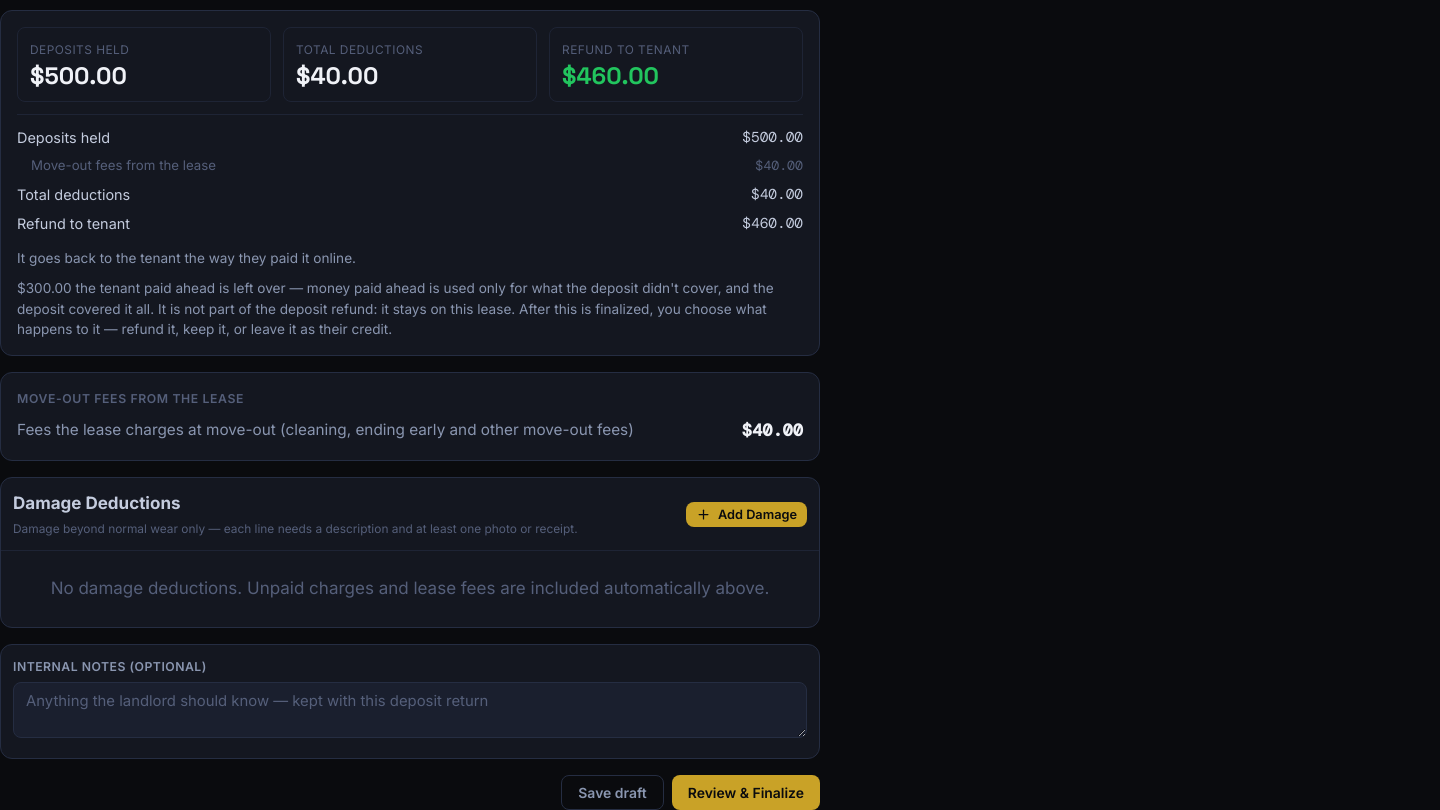
Test case: Deposit return: the server's figures, never the page's own sum › Cancel backs out with nothing sent
(page scrolled)
Click the button "Review & Finalize": click(746, 793) x1=672 y1=775 x2=820 y2=809
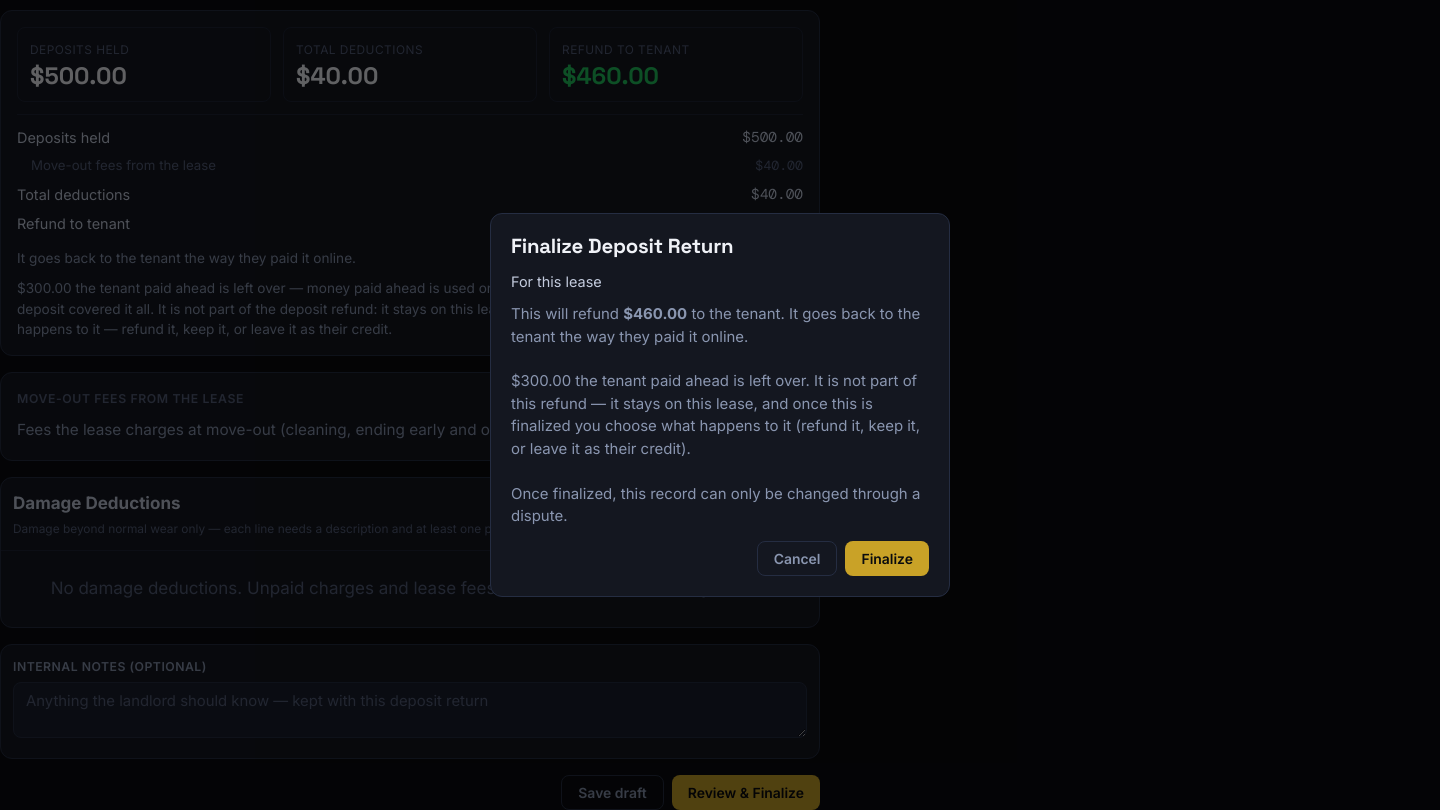
Click the button "Cancel": click(797, 559) x1=757 y1=541 x2=837 y2=576
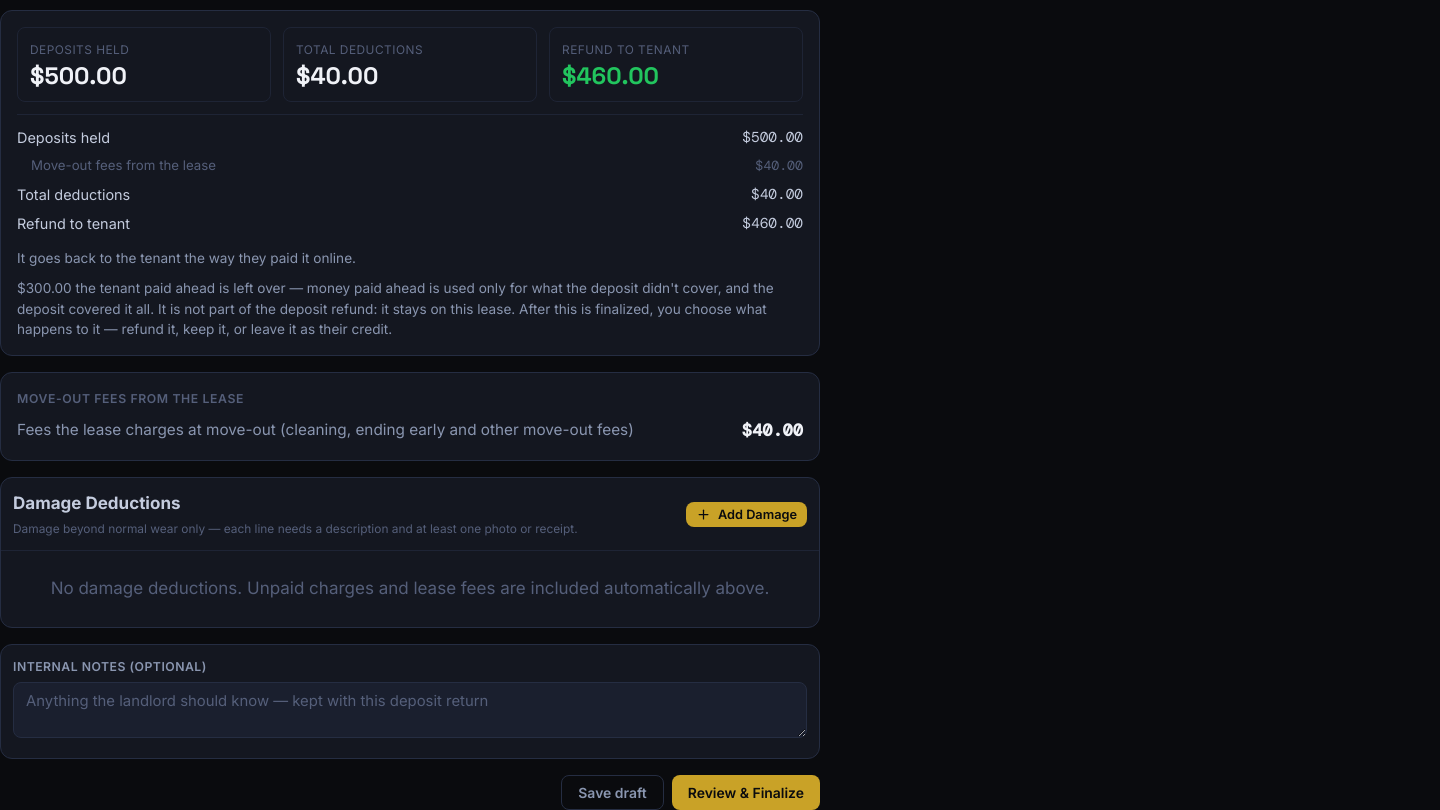
Check: the dialog is gone
